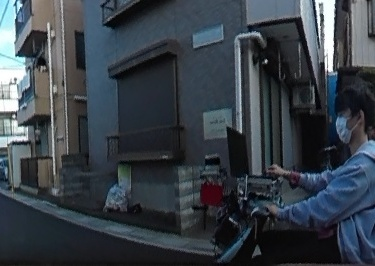person: (283, 82, 375, 266)
